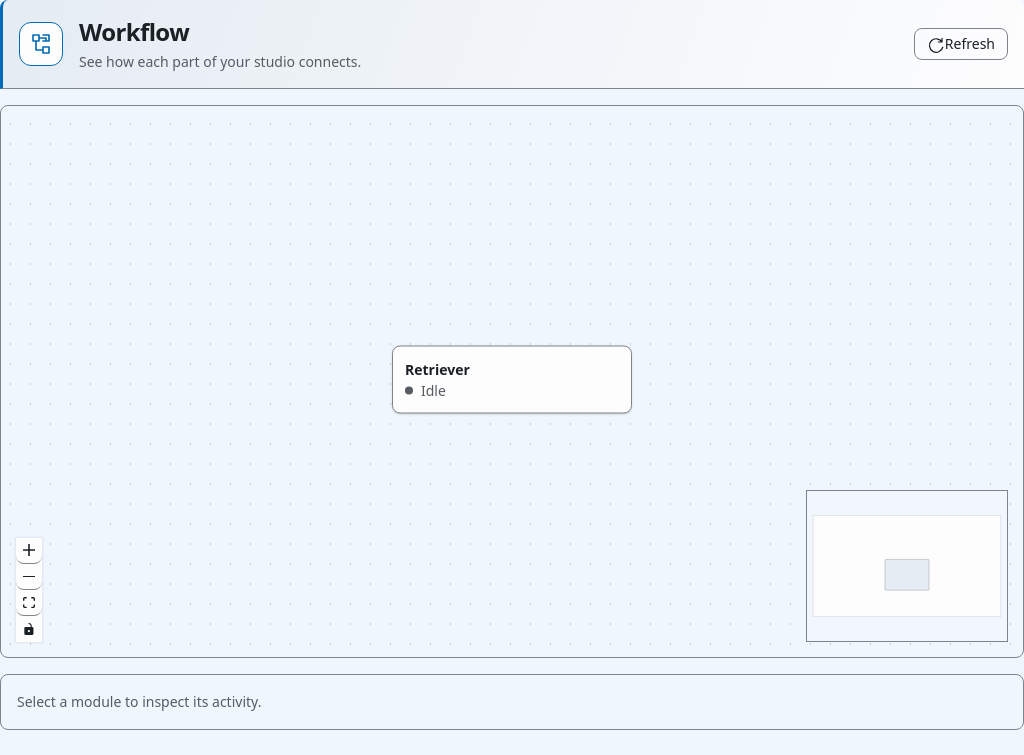
Test case: WorkflowPage › M9-OBS-05 reconciles a completed zero-hit retrieval with node, Now and Recent after refresh
The image size is (1024, 755).
Click the element named "Retriever · Idle". click: (512, 380)
box: x1=392 y1=346 x2=632 y2=414
(page scrolled)
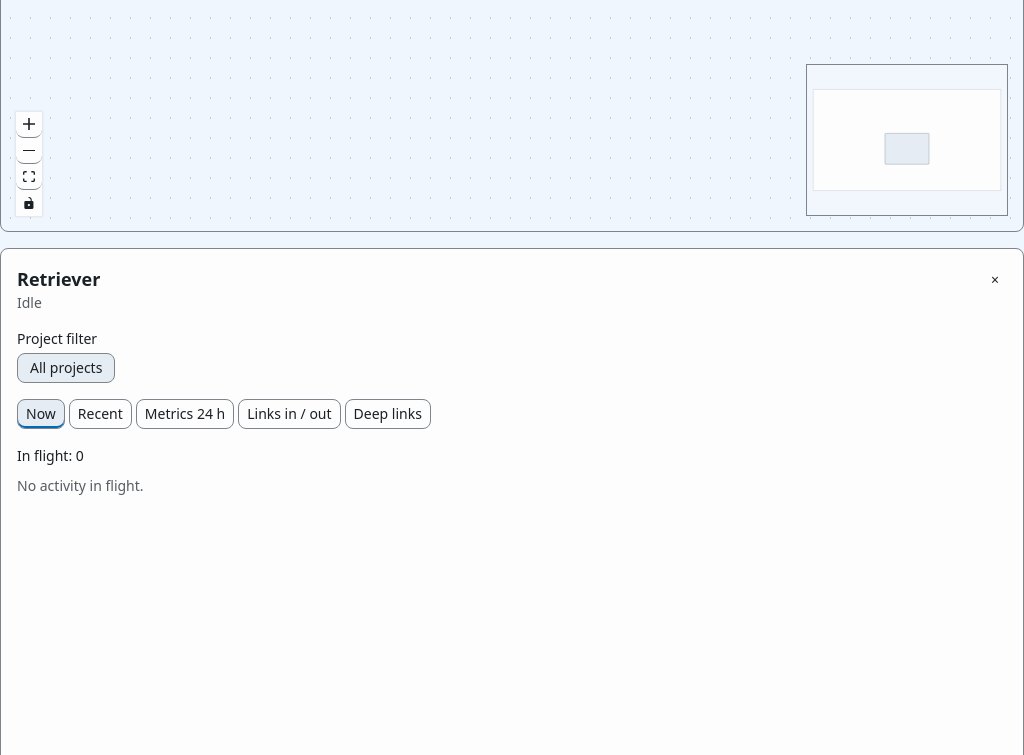
Now the text "In flight: 0" is shown, box x1=17 y1=446 x2=84 y2=465
Now the text "No activity in flight." is shown, box x1=17 y1=476 x2=144 y2=495
Click the tab "Recent". click: (100, 414)
box: x1=69 y1=399 x2=132 y2=429
(page scrolled)
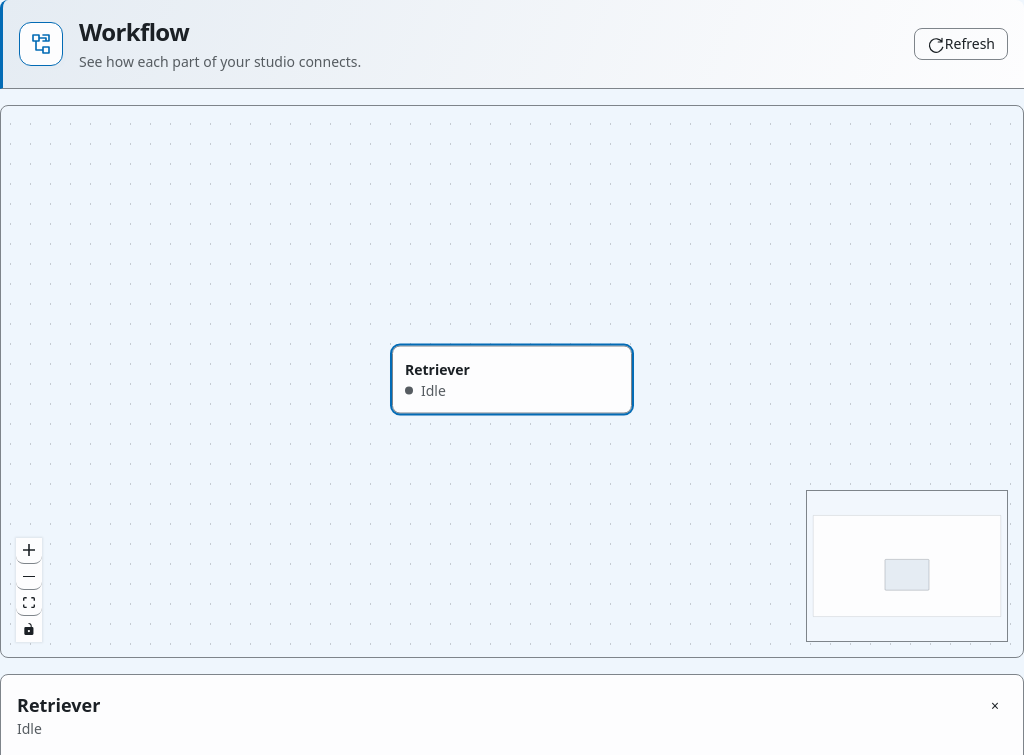
Click the button "Refresh". click: (961, 44)
box: x1=914 y1=28 x2=1008 y2=60
(page scrolled)
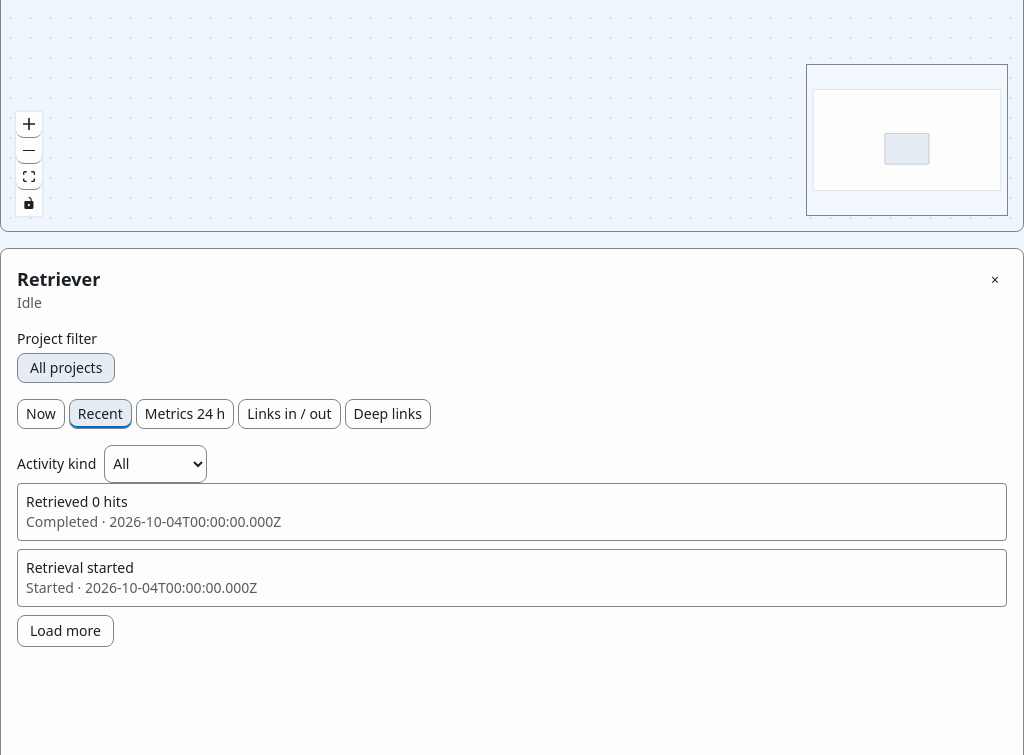
Click the tab "Now". click: (41, 414)
box: x1=17 y1=399 x2=65 y2=429
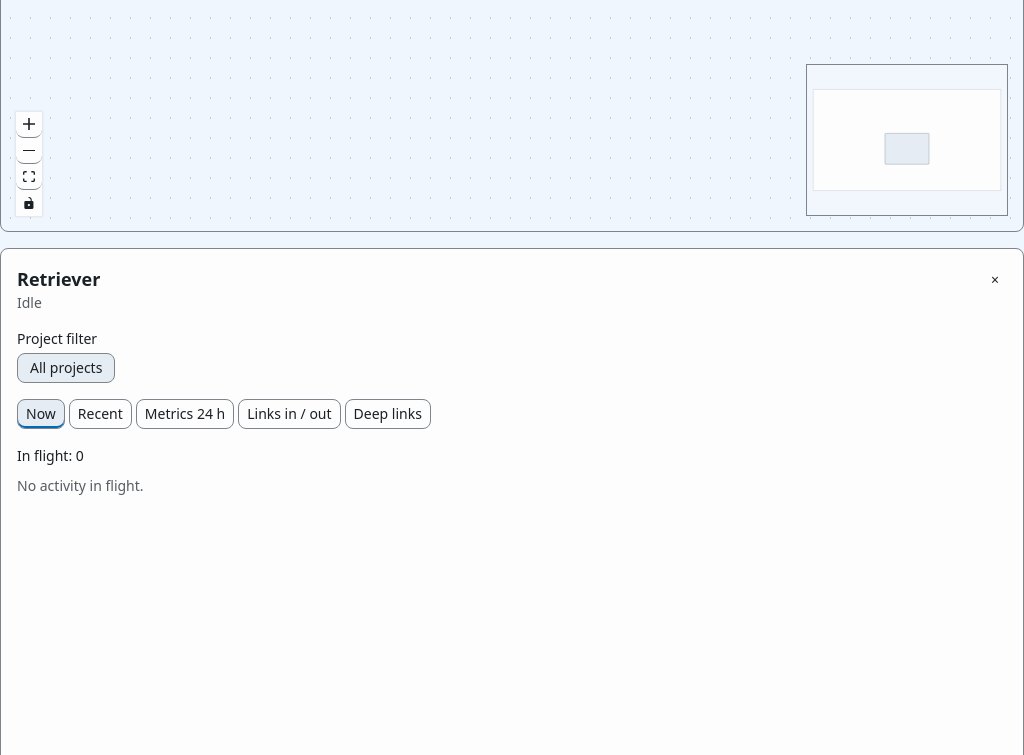
Now the text "In flight: 0" is shown, box x1=17 y1=446 x2=84 y2=465
Now the text "No activity in flight." is shown, box x1=17 y1=476 x2=144 y2=495
